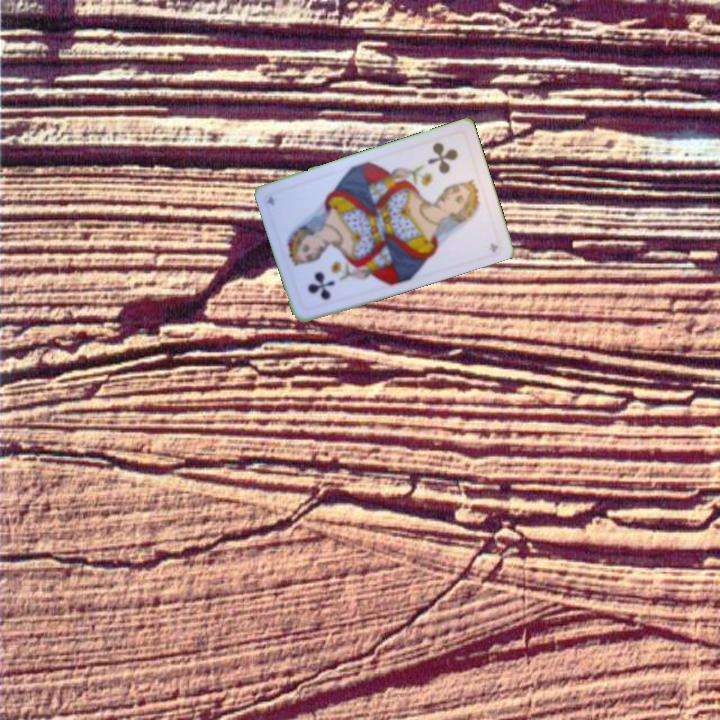c_q.png: (410, 129, 485, 209), (283, 234, 357, 314)
